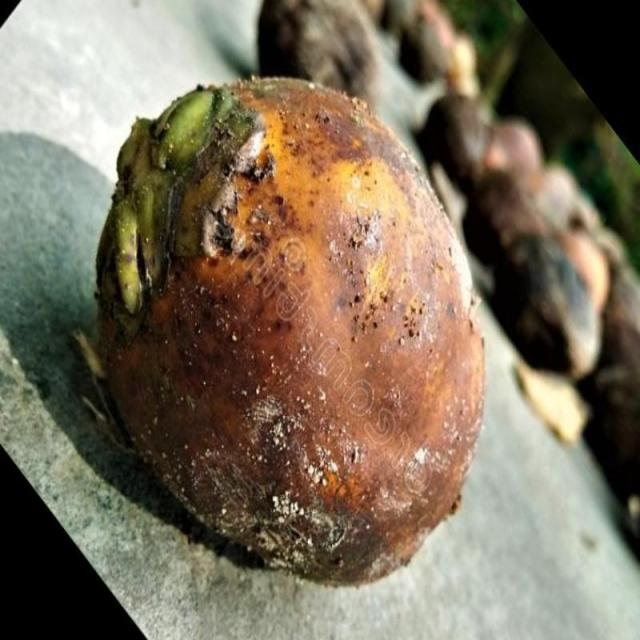damaged: (89, 77, 488, 589)
